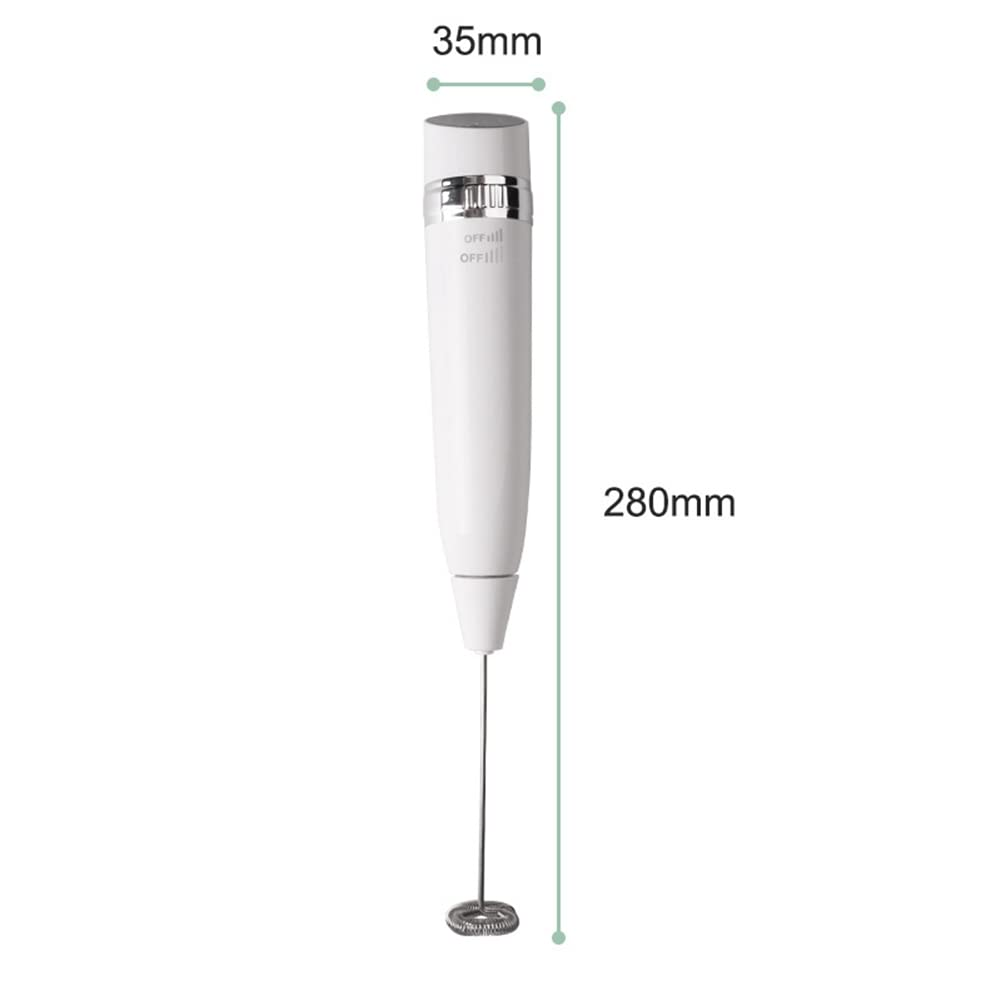280mm: (604, 487, 735, 517)
